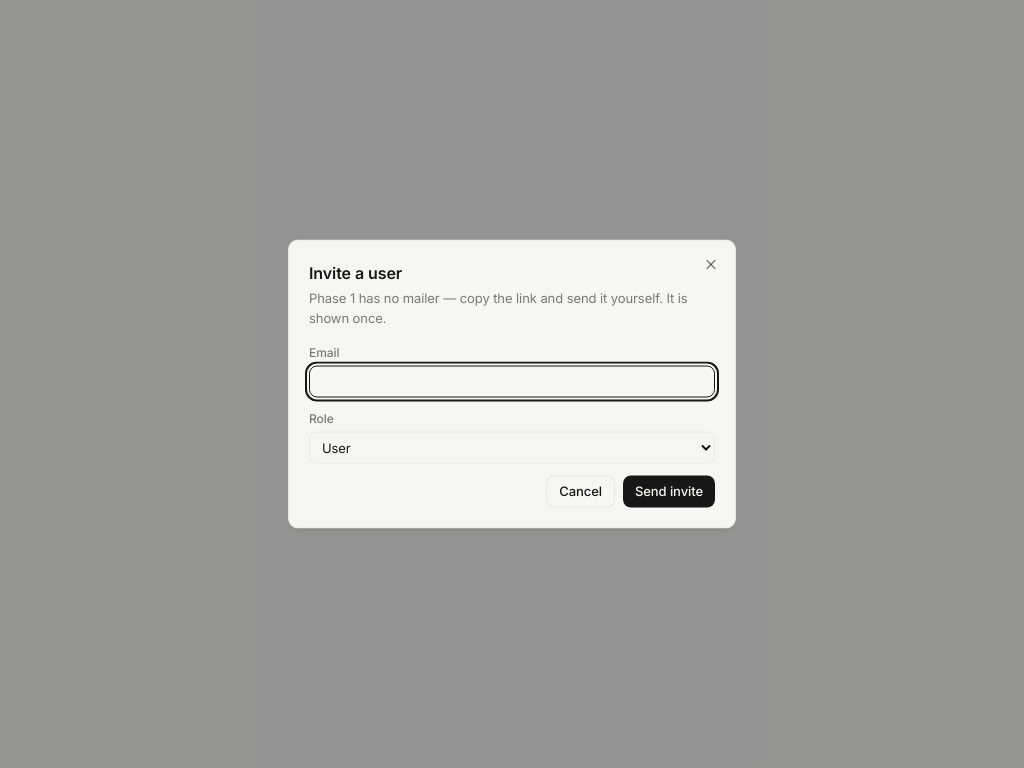
Test: creates an invitation and reveals the one-time link
Type "new@acme.com" into the field labelled "Email". click: (512, 382)
box: left=309, top=366, right=715, bottom=398
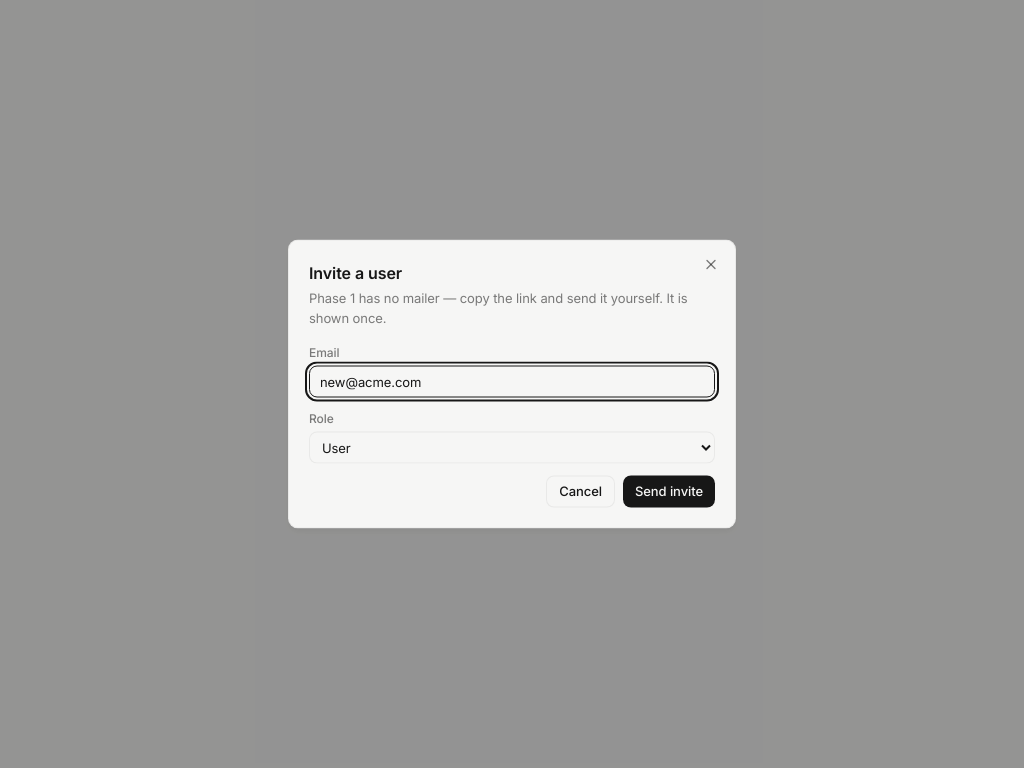
Select "Admin" in the dropdown labelled "Role". click: (512, 448)
box: left=309, top=432, right=715, bottom=464
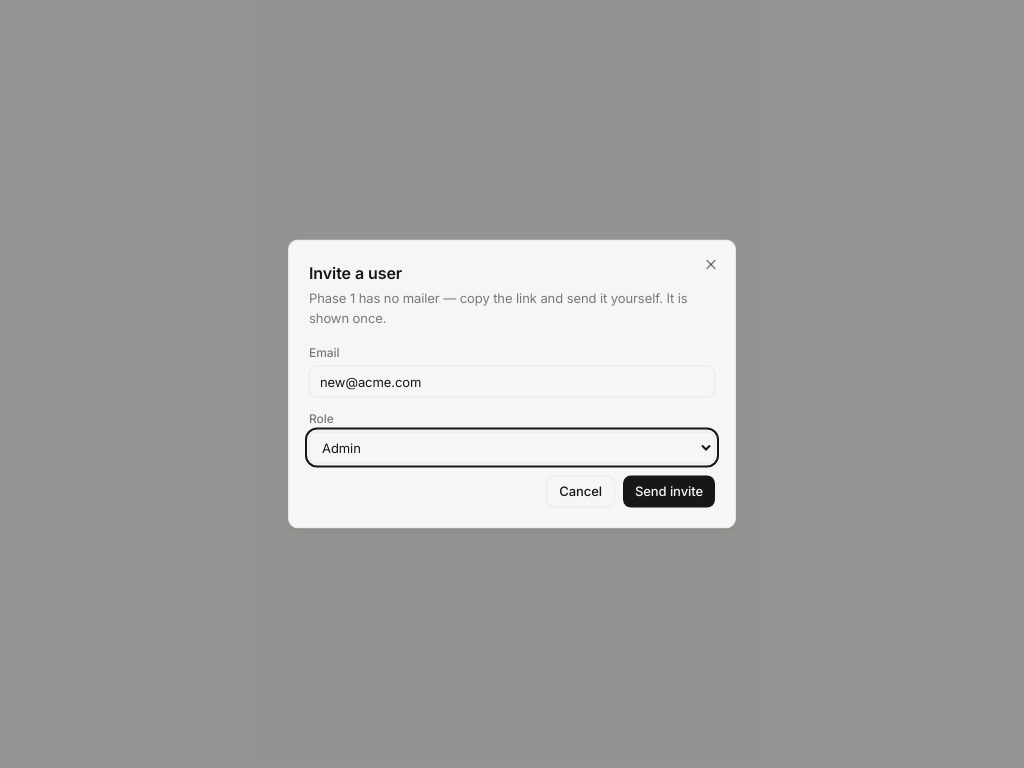
Click the button "Send invite". click: (669, 492)
box: left=623, top=476, right=715, bottom=508
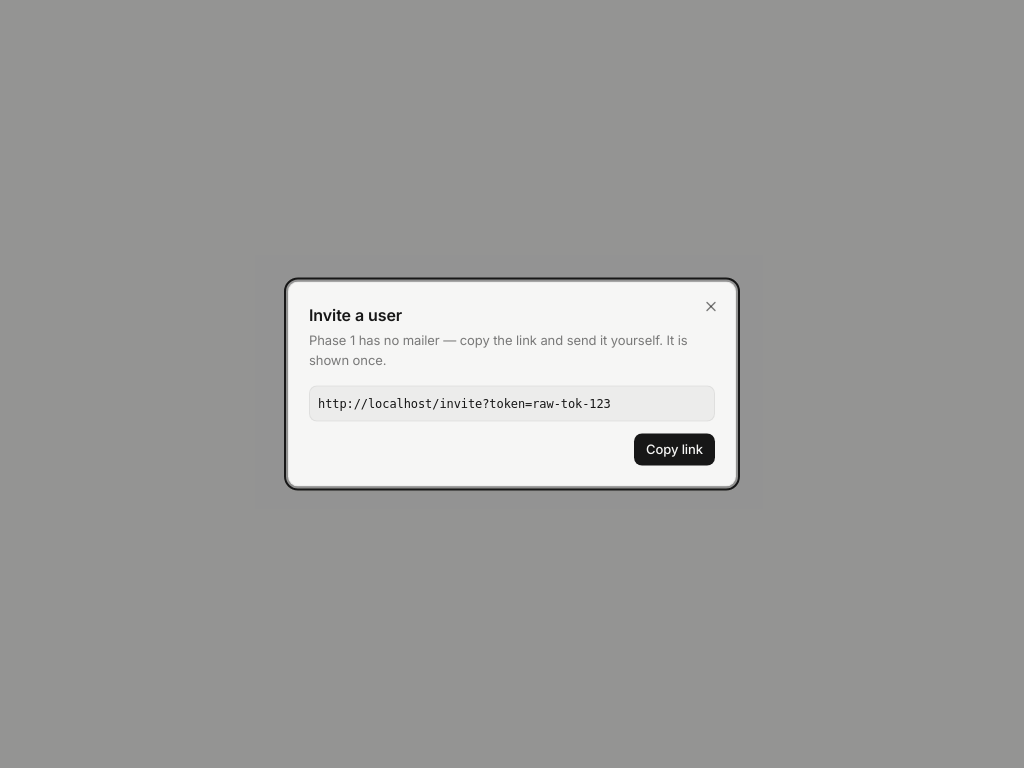
Check: the text "http://localhost/invite?token=raw-tok-123" is shown, box left=309, top=386, right=715, bottom=422
Check: the button "Copy link" is shown, box left=634, top=434, right=715, bottom=466
